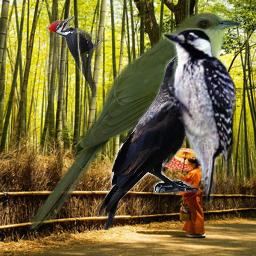Crow: (97, 44, 200, 230)
Cuckoo: (30, 11, 244, 233)
Woodpecker: (161, 28, 236, 202), (46, 16, 104, 101)
